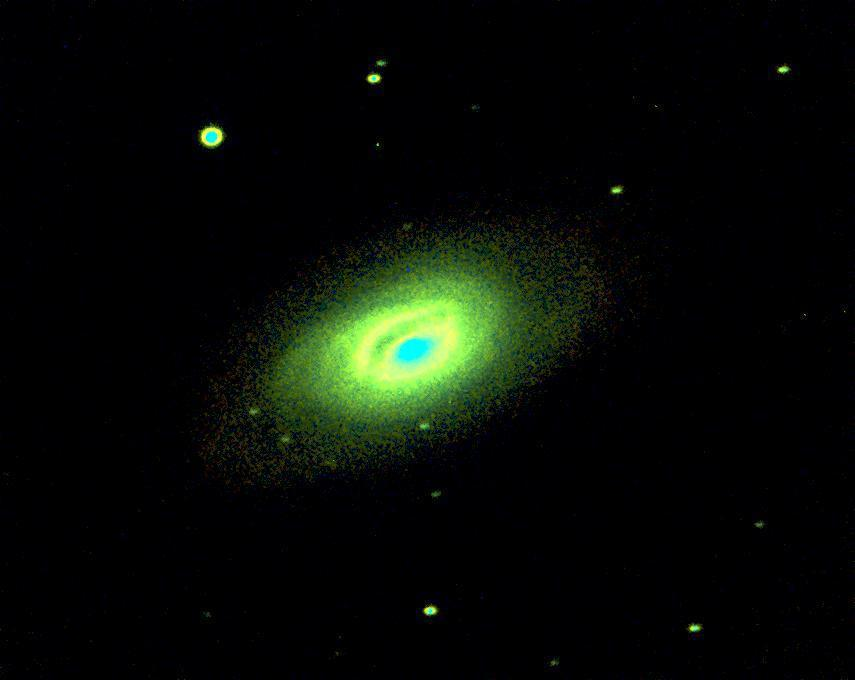star: (538, 648, 568, 678)
